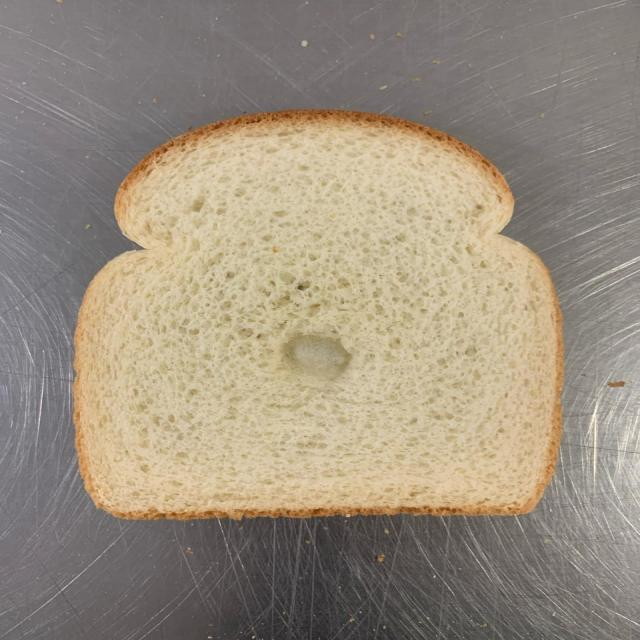sliced_bread: (75, 110, 563, 519)
